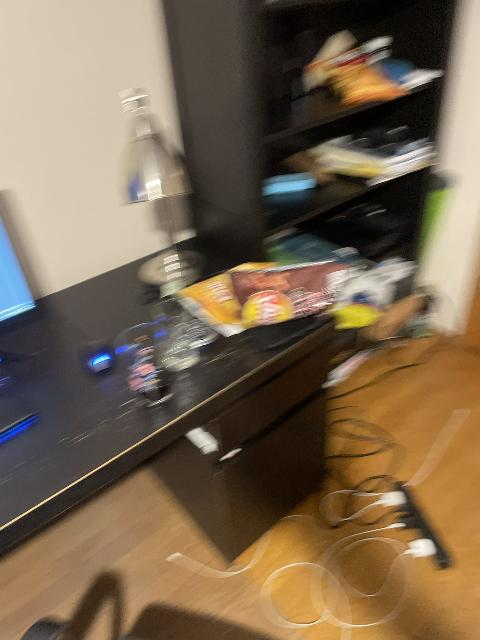Chio Cascaval 125g: (307, 47, 409, 104)
Chio Hula Hoops Cheese 70g: (173, 260, 298, 330)
Lays Beef Grilled Ribs 125g: (231, 260, 368, 333)
